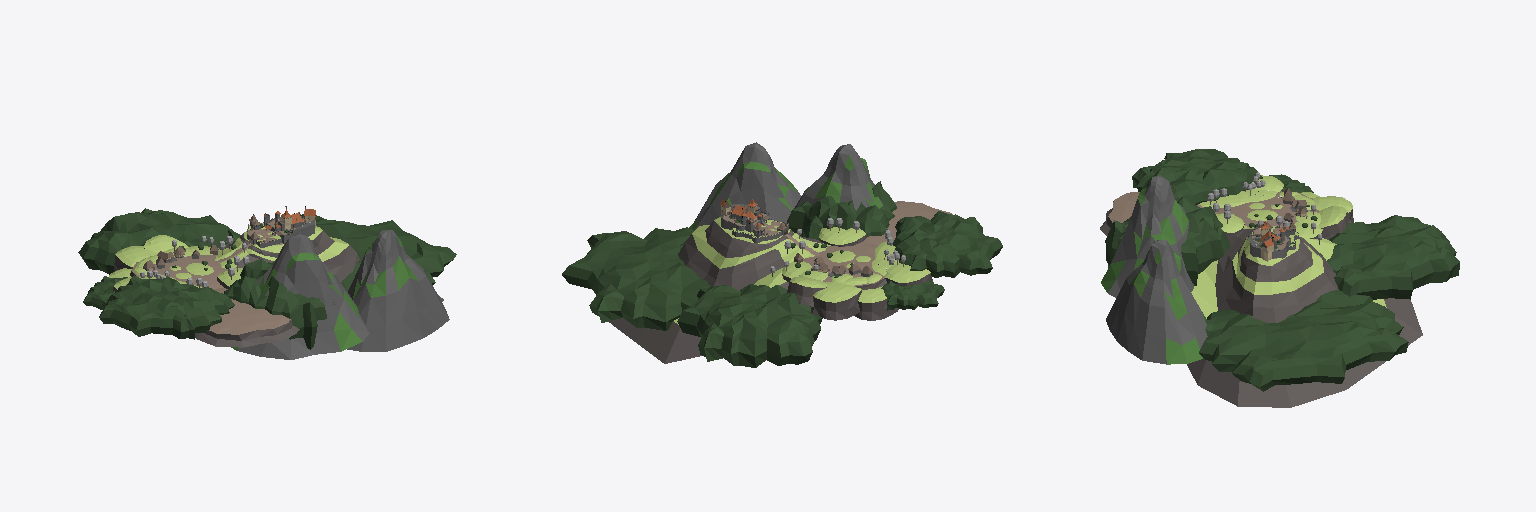
Rendered from castle.obj.
3 views of the same model, side by side, from view 1: azimuth 30°, elevation 25°; view 2: azimuth 150°, elevation 25°; view 3: azimuth 270°, elevation 25° (orthographic).
Visible parts, largest first — view 1: mountain.001_Mesh1_Model.174, mountain_Mesh1_Model.173, lowpoly_forest.001_Mesh1_Model.177, lowpoly_forest.003_Mesh1_Model.191, lowpoly_forest_Mesh1_Model.175, lowpoly_forest.002_Mesh1_Model.190, dirtcliff.001_Mesh1_Model.176, castle_cliff.001_Mesh1_Group1_Model.007, dirtcliff_Mesh1_Model.040, castle_walls_Mesh1_Group1_Model.005, lowpoly_forest.004_Mesh1_Model.199, cliff.004_Mesh1_Model.182; view 2: lowpoly_forest.002_Mesh1_Model.190, lowpoly_forest.003_Mesh1_Model.191, castle_cliff.001_Mesh1_Group1_Model.007, lowpoly_forest.001_Mesh1_Model.177, mountain.001_Mesh1_Model.174, lowpoly_forest_Mesh1_Model.175, mountain_Mesh1_Model.173, cliff.004_Mesh1_Model.182, lowpoly_forest.004_Mesh1_Model.199, dirtcliff_Mesh1_Model.040, cliff.002_Mesh1_Model.180, dirtcliff.001_Mesh1_Model.176 (+4 smaller); view 3: lowpoly_forest.002_Mesh1_Model.190, castle_cliff.001_Mesh1_Group1_Model.007, lowpoly_forest.003_Mesh1_Model.191, mountain.001_Mesh1_Model.174, mountain_Mesh1_Model.173, lowpoly_forest.001_Mesh1_Model.177, lowpoly_forest_Mesh1_Model.175, dirtcliff_Mesh1_Model.040, dirtcliff.001_Mesh1_Model.176, cliff.003_Mesh1_Model.181, castle_walls_Mesh1_Group1_Model.005.
Part boxes in pixels (x1,y1,x2,y2): mountain.001_Mesh1_Model.174: (347,230,449,351); mountain_Mesh1_Model.173: (231,233,368,359); lowpoly_forest.001_Mesh1_Model.177: (99,275,234,339); lowpoly_forest.003_Mesh1_Model.191: (78,208,240,274); lowpoly_forest_Mesh1_Model.175: (224,259,334,349); lowpoly_forest.002_Mesh1_Model.190: (301,214,456,291); dirtcliff.001_Mesh1_Model.176: (195,288,299,347); castle_cliff.001_Mesh1_Group1_Model.007: (205,226,443,301); dirtcliff_Mesh1_Model.040: (130,254,227,289); castle_walls_Mesh1_Group1_Model.005: (247,217,314,247); lowpoly_forest.004_Mesh1_Model.199: (83,276,127,309); cliff.004_Mesh1_Model.182: (114,246,157,271); lowpoly_forest.002_Mesh1_Model.190: (562,227,709,330); lowpoly_forest.003_Mesh1_Model.191: (677,284,822,367); castle_cliff.001_Mesh1_Group1_Model.007: (608,217,830,363); lowpoly_forest.001_Mesh1_Model.177: (893,211,1002,277); mountain.001_Mesh1_Model.174: (689,142,800,229); lowpoly_forest_Mesh1_Model.175: (788,181,896,239); mountain_Mesh1_Model.173: (787,144,882,223); cliff.004_Mesh1_Model.182: (810,282,861,320); lowpoly_forest.004_Mesh1_Model.199: (881,279,944,310); dirtcliff_Mesh1_Model.040: (799,241,886,289); cliff.002_Mesh1_Model.180: (854,286,898,320); dirtcliff.001_Mesh1_Model.176: (864,201,952,244); lowpoly_forest.002_Mesh1_Model.190: (1199,290,1408,391); castle_cliff.001_Mesh1_Group1_Model.007: (1187,225,1422,407); lowpoly_forest.003_Mesh1_Model.191: (1327,215,1459,299); mountain.001_Mesh1_Model.174: (1106,240,1207,364); mountain_Mesh1_Model.173: (1101,175,1193,297); lowpoly_forest.001_Mesh1_Model.177: (1132,149,1262,204); lowpoly_forest_Mesh1_Model.175: (1105,197,1230,285); dirtcliff_Mesh1_Model.040: (1218,191,1319,227); dirtcliff.001_Mesh1_Model.176: (1100,192,1217,235); cliff.003_Mesh1_Model.181: (1319,205,1351,238); castle_walls_Mesh1_Group1_Model.005: (1250,227,1298,258).
Bounding box in the file's own units: 301 × 107 × 246.